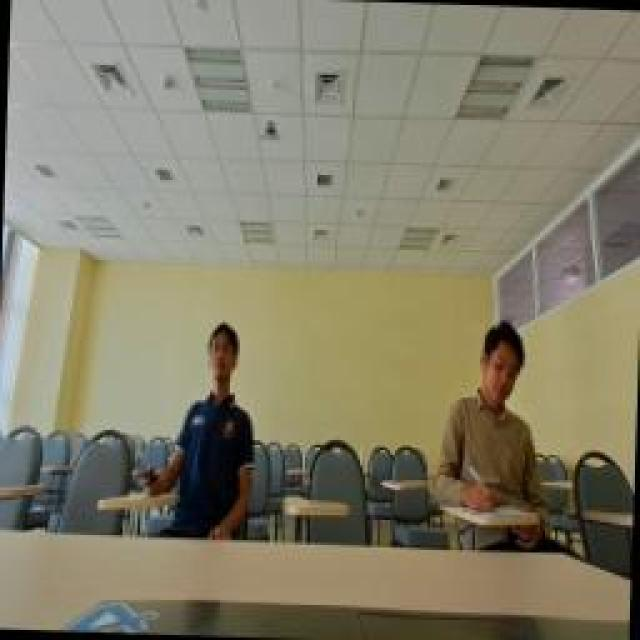study: (435, 320, 555, 518), (175, 322, 260, 532)
